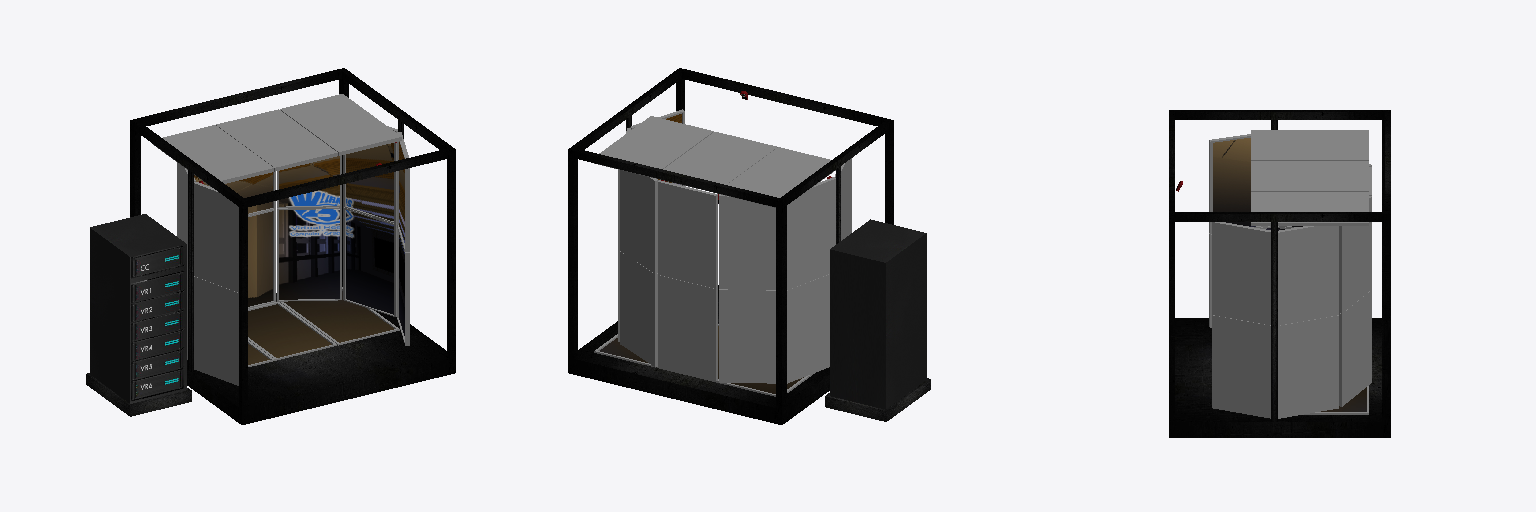
3 views of the same model, side by side, from view 1: azimuth 30°, elevation 25°; view 2: azimuth 150°, elevation 25°; view 3: azimuth 270°, elevation 25° (orthographic).
Parts seen in each view (by area): view 1: Box015, Box002, Box028, Box029, Box026; view 2: Box015, Box002, Box028, Box029; view 3: Box015, Box002, Box027.
Boxes of the visible parts, x1,y1,x2,y2 form: Box015: [153, 94, 409, 385]; Box002: [130, 68, 455, 424]; Box028: [90, 214, 186, 403]; Box029: [86, 373, 191, 416]; Box026: [188, 170, 193, 371]; Box015: [594, 109, 851, 396]; Box002: [568, 68, 893, 424]; Box028: [830, 219, 926, 409]; Box029: [825, 378, 930, 421]; Box015: [1209, 130, 1371, 418]; Box002: [1169, 110, 1390, 437]; Box027: [1271, 222, 1277, 421].
Bounding box in the file's own units: 3.53 × 2.63 × 2.36.
Materials: 5 (4 with a texture image).